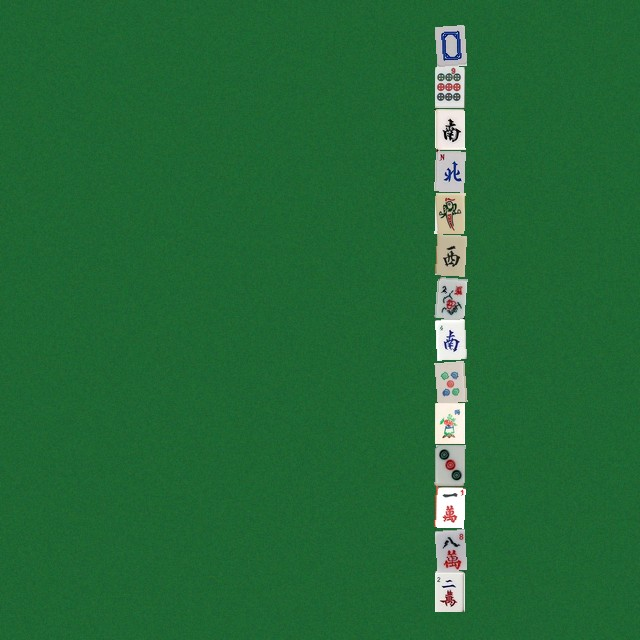tile: (434, 24, 464, 65), (434, 66, 464, 107), (434, 108, 464, 149), (434, 150, 464, 191), (434, 192, 464, 233), (434, 234, 464, 275), (434, 276, 464, 317), (434, 318, 464, 359), (434, 360, 464, 401), (434, 402, 464, 443), (434, 444, 464, 485), (434, 486, 464, 527), (434, 528, 464, 569), (434, 570, 464, 611)
